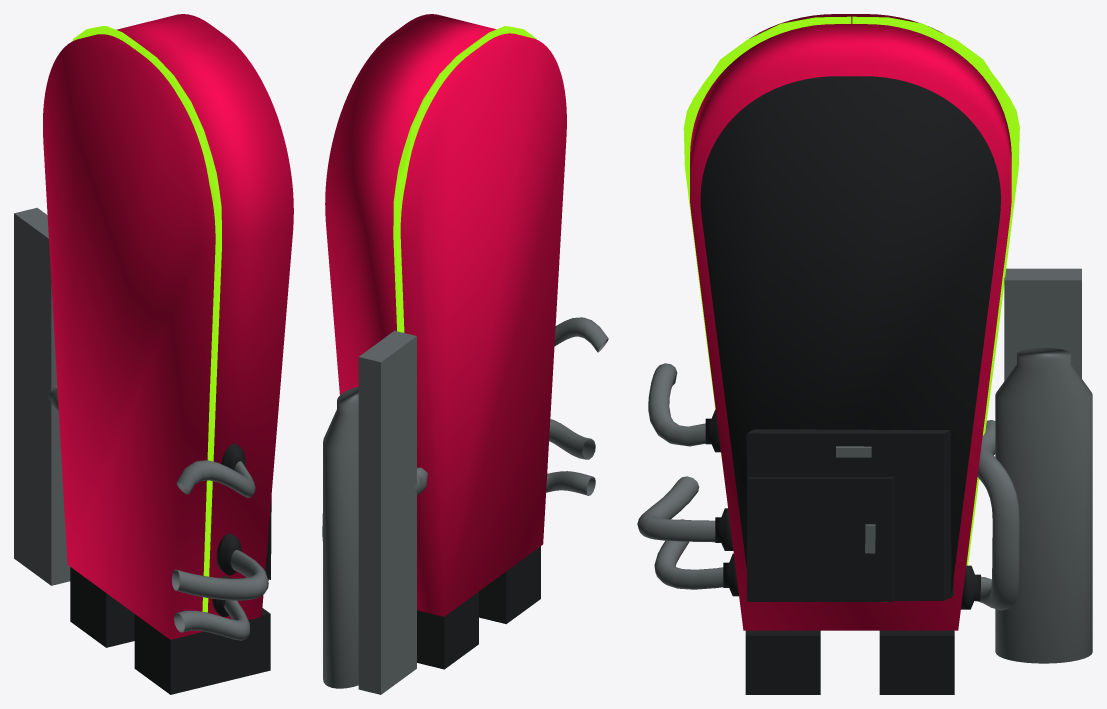
Rendered from machine back.glb.
3 views of the same model, side by side, from view 1: azimuth 30°, elevation 25°; view 2: azimuth 150°, elevation 25°; view 3: azimuth 270°, elevation 25° (orthographic). The views are drawn at different scales.
Parts seen in each view (by area): view 1: body, back, legs, glow line.001, wire 1.001, wire 1.002, wire 1, Cylinder.004; view 2: body, back, ingr tank, legs, glow line.001, wire 1, wire 1.001, wire 1.002; view 3: screen, door, body, ingr tank, legs, back, glow line.001, wire 4, wire 1.001, wire 1, wire 1.002.
Boxes of the visible parts, left/top/right/bottom form: body: left=43, top=14, right=293, bottom=639; back: left=14, top=207, right=70, bottom=585; legs: left=70, top=567, right=270, bottom=694; glow line.001: left=72, top=26, right=221, bottom=612; wire 1.001: left=172, top=550, right=268, bottom=600; wire 1.002: left=174, top=600, right=250, bottom=640; wire 1: left=176, top=460, right=255, bottom=497; Cylinder.004: left=216, top=533, right=241, bottom=575; body: left=325, top=14, right=566, bottom=616; back: left=358, top=330, right=416, bottom=694; ingr tank: left=323, top=387, right=358, bottom=688; legs: left=417, top=546, right=540, bottom=669; glow line.001: left=393, top=26, right=536, bottom=332; wire 1: left=554, top=317, right=608, bottom=352; wire 1.001: left=549, top=419, right=595, bottom=459; wire 1.002: left=546, top=471, right=595, bottom=495; screen: left=700, top=76, right=1000, bottom=598; door: left=746, top=429, right=953, bottom=601; body: left=690, top=14, right=1011, bottom=630; ingr tank: left=995, top=348, right=1092, bottom=663; legs: left=745, top=630, right=954, bottom=694; back: left=1004, top=268, right=1081, bottom=380; glow line.001: left=683, top=16, right=1019, bottom=565; wire 4: left=974, top=420, right=1019, bottom=610; wire 1.001: left=637, top=476, right=715, bottom=542; wire 1: left=648, top=363, right=705, bottom=446; wire 1.002: left=654, top=519, right=723, bottom=589.
Bounding box in the file's own units: 1.94 × 8.43 × 5.48.
